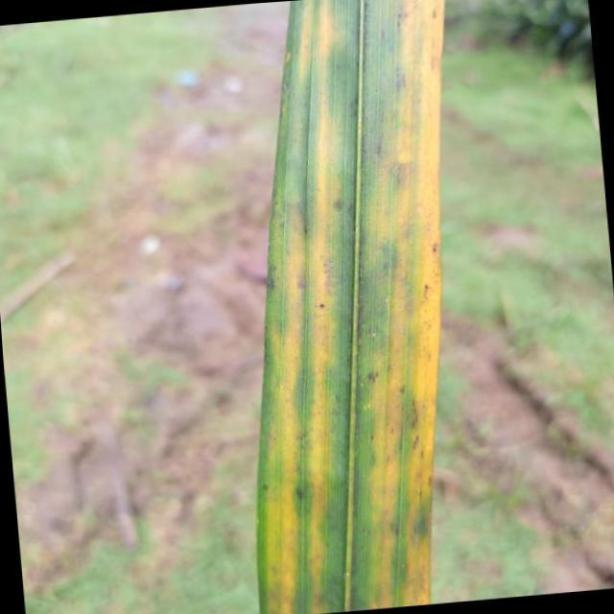Megnesium: (254, 0, 442, 614)
